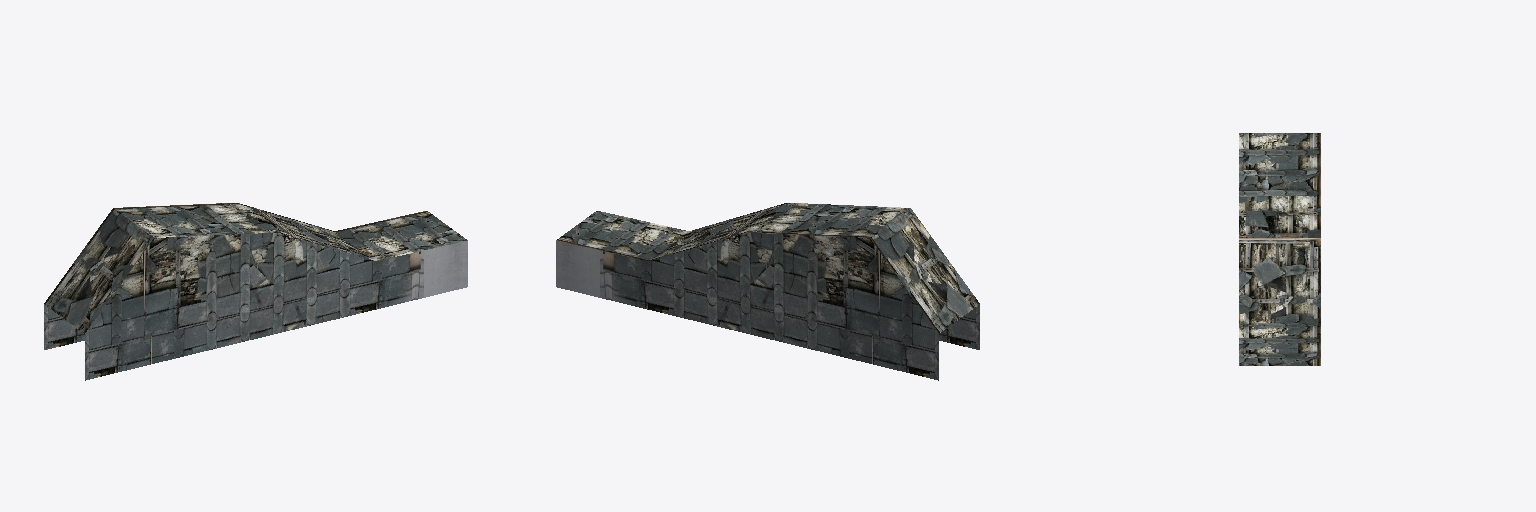
The picture shows the model from 3 angles: view 1: azimuth 30°, elevation 25°; view 2: azimuth 150°, elevation 25°; view 3: azimuth 270°, elevation 25°; orthographic projection.
Visible parts, largest first — view 1: polySurface138 polySurface175 polySurface177 polySurface179 poly; view 2: polySurface138 polySurface175 polySurface177 polySurface179 poly; view 3: polySurface138 polySurface175 polySurface177 polySurface179 poly.
Boxes of the visible parts, <box> form: polySurface138 polySurface175 polySurface177 polySurface179 poly: <box>44,203,467,380</box>; polySurface138 polySurface175 polySurface177 polySurface179 poly: <box>556,203,979,380</box>; polySurface138 polySurface175 polySurface177 polySurface179 poly: <box>1239,133,1320,365</box>.
Bounding box in the file's own units: 0.9935 × 0.3114 × 0.1845.
1 materials, 1 textured.